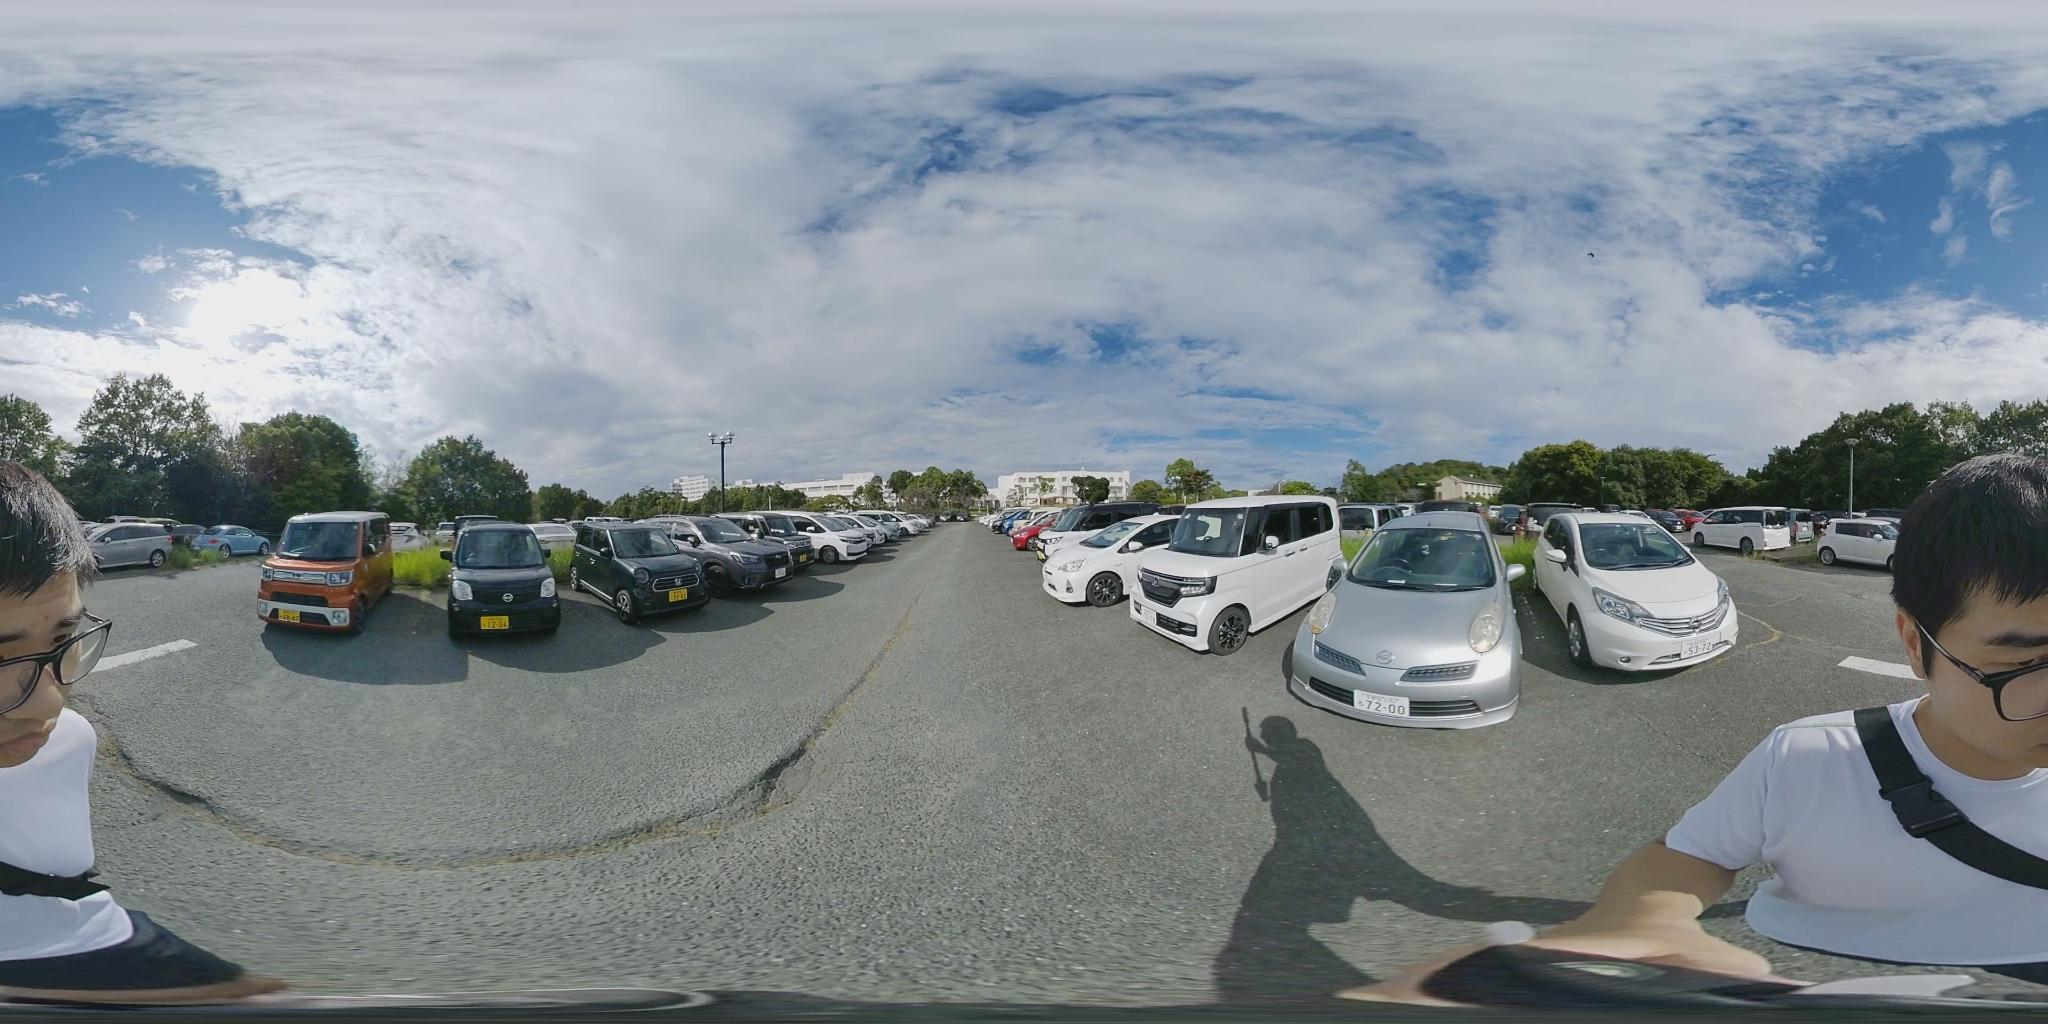car: (1296, 516, 1509, 725), (1533, 515, 1737, 675), (1135, 499, 1331, 643), (563, 525, 712, 626), (666, 519, 822, 588), (1685, 508, 1823, 556), (1028, 502, 1169, 549), (777, 515, 895, 562), (95, 521, 182, 572), (1816, 516, 1898, 568), (994, 512, 1054, 550), (987, 509, 1042, 533)
